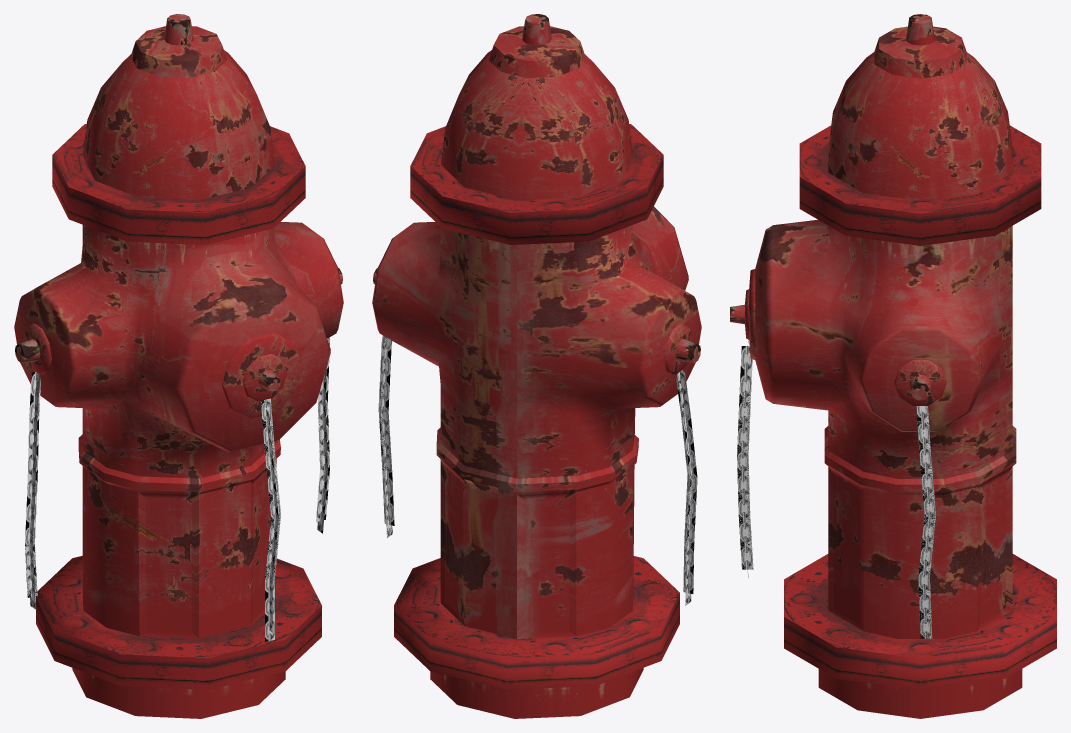
The picture shows the model from 3 angles, left to right: view 1: azimuth 30°, elevation 25°; view 2: azimuth 150°, elevation 25°; view 3: azimuth 270°, elevation 25°; orthographic projection.
Visible parts, largest first — view 1: Base, ChainPlane05, ChainPlane01, ChainPlane06, ChainPlane02; view 2: Base, ChainPlane05, ChainPlane06; view 3: Base, ChainPlane06, ChainPlane02.
Boxes of the visible parts, x1,y1,x2,y2 form: Base: (14, 14, 343, 718); ChainPlane05: (25, 371, 40, 609); ChainPlane01: (260, 398, 280, 642); ChainPlane06: (316, 337, 329, 533); ChainPlane02: (266, 409, 278, 632); Base: (372, 14, 701, 718); ChainPlane05: (676, 370, 697, 605); ChainPlane06: (378, 335, 394, 537); Base: (730, 14, 1056, 718); ChainPlane06: (916, 406, 935, 638); ChainPlane02: (737, 346, 753, 569).
Bounding box in the file's own units: 3.8 × 7.47 × 3.38.
2 materials, 2 textured.
